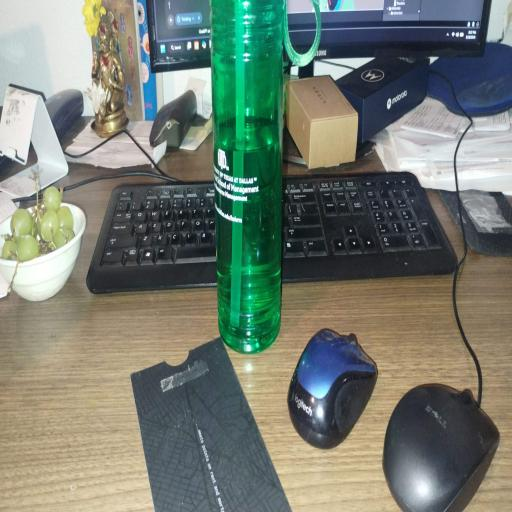mouse: (383, 384, 499, 511), (288, 330, 377, 448), (150, 91, 196, 148)
waterbottle: (211, 0, 319, 352)
